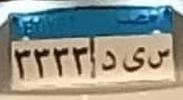3: (51, 45, 69, 77), (33, 47, 51, 78), (14, 48, 32, 78), (72, 43, 88, 74)
daal: (101, 48, 118, 70)
seen: (146, 44, 170, 72)
yaa: (122, 45, 144, 72)
